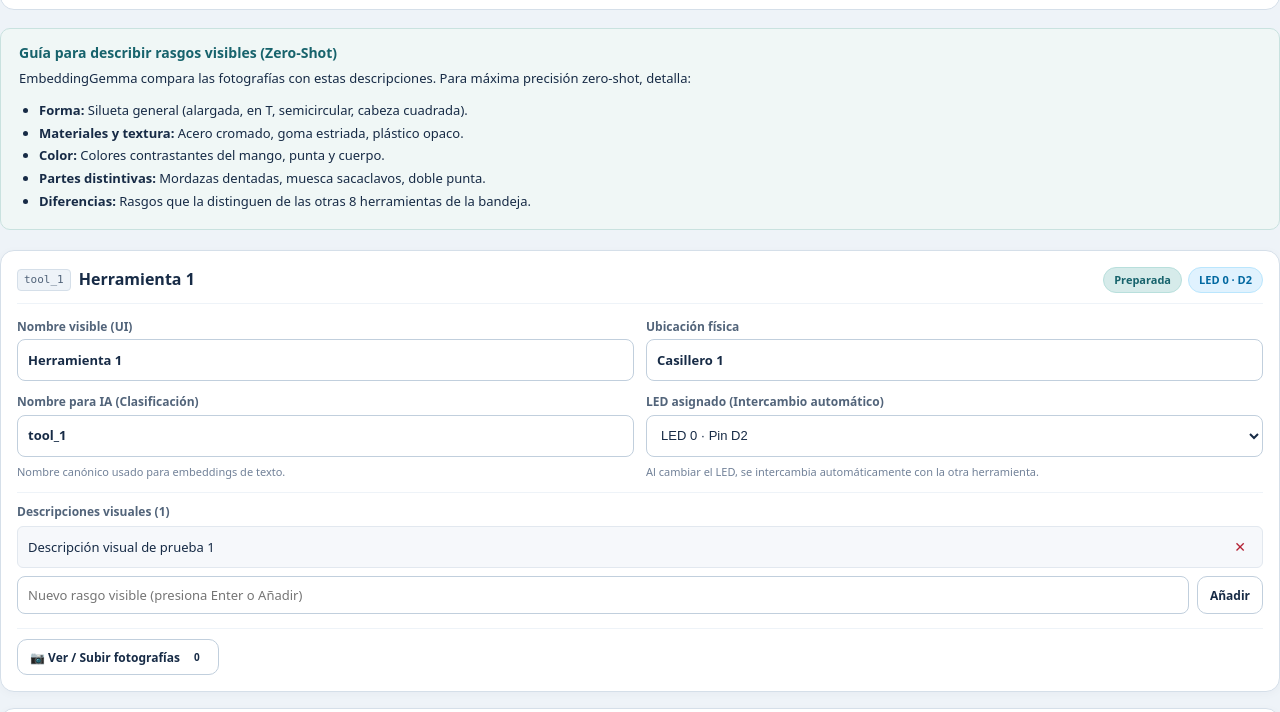
ToolManager component › handles save and apply with version increment and error handling
(page scrolled)
# Make an edit to mark draft dirty
Replace the text in the field with placeholder "Ej. Martillo de uña" with "Destornillador Phillips": [326, 360] box x1=17 y1=339 x2=634 y2=381
(page scrolled)
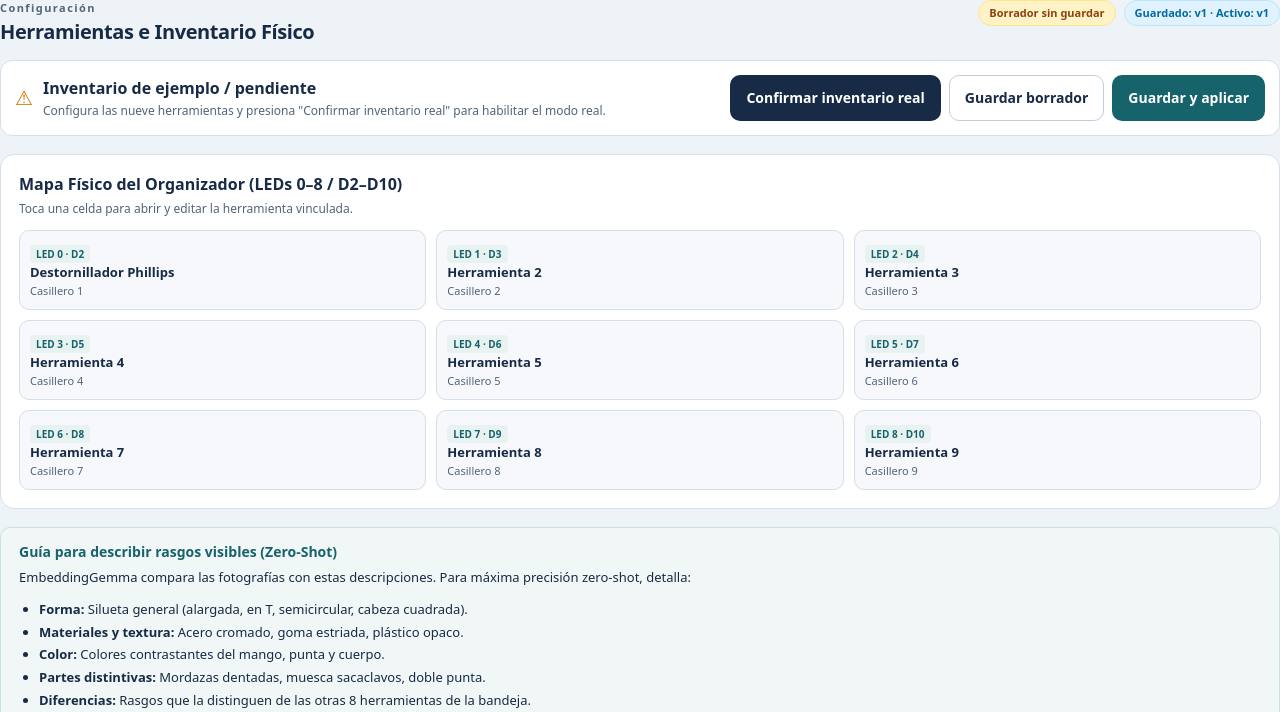
Expected: the button "Guardar borrador" is enabled
Click the button "Guardar borrador": [1027, 98] box x1=949 y1=75 x2=1104 y2=121
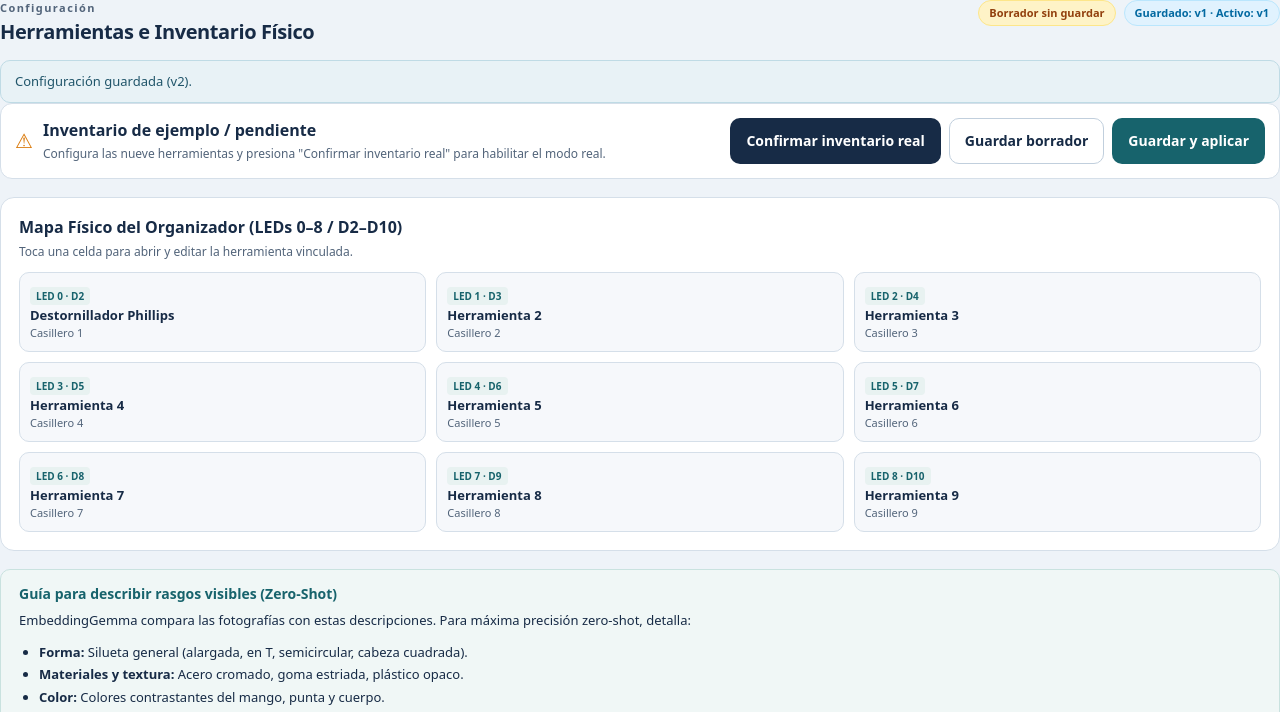
Expected: the text "Configuración guardada (v2)." is shown, x1=0 y1=60 x2=1279 y2=103
# Test hot-apply
Click the button "Guardar y aplicar": [1189, 141] box x1=1112 y1=118 x2=1265 y2=164
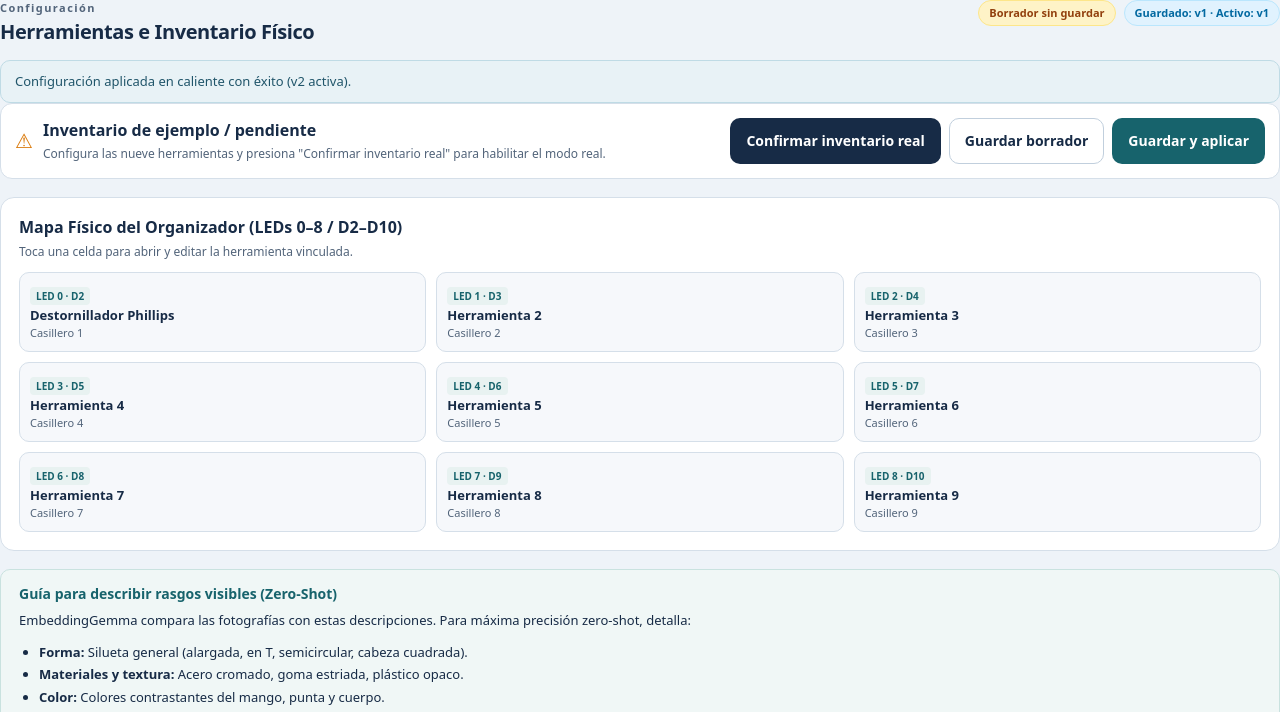
Expected: the text "Configuración aplicada en caliente con éxito (v2 activa)." is shown, x1=0 y1=60 x2=1279 y2=103
